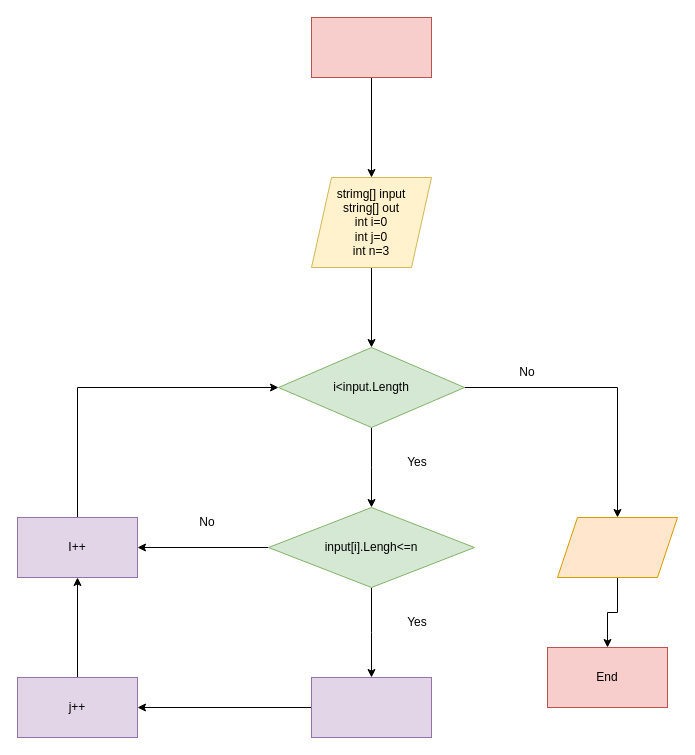
This 695x755 diagram has some shape labels left out. Each missing label, with the box of its shape:
out: (556, 516, 678, 578)
out[j]=input[i]: (310, 676, 432, 738)
Start: (310, 16, 432, 78)
